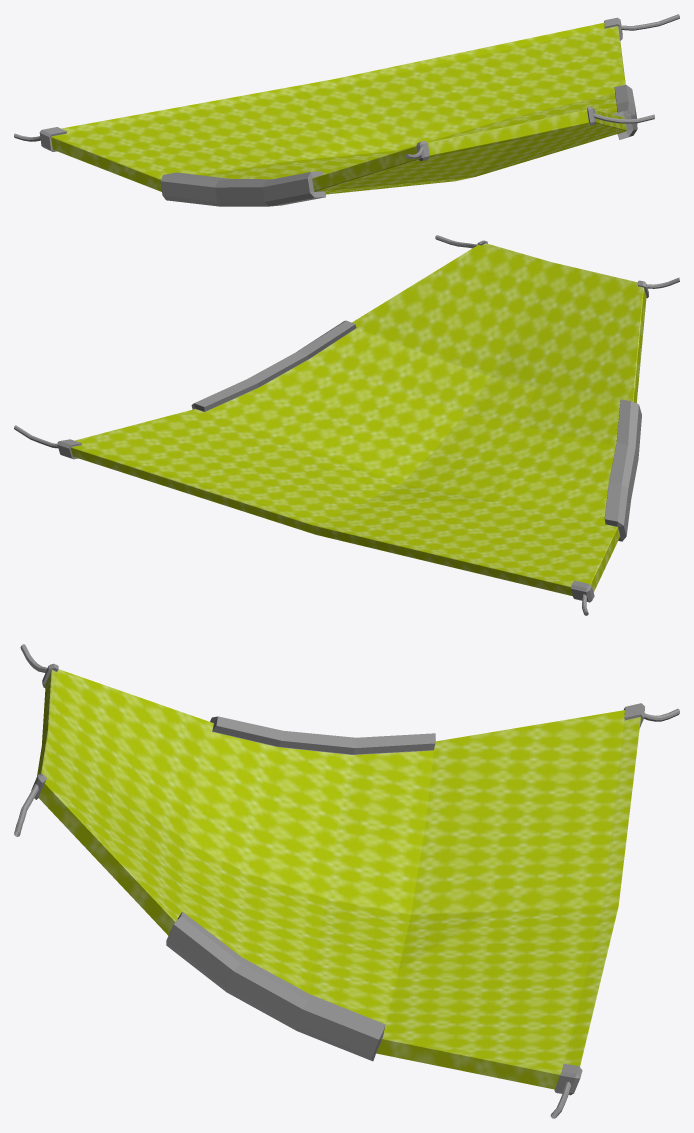
File: SM_Cloth_03.fbx
3 renders of one model, top to bottom at view 1: azimuth 30°, elevation 25°; view 2: azimuth 150°, elevation 25°; view 3: azimuth 270°, elevation 25°, orthographic. The views are drawn at different scales.
Visible parts, largest first — view 1: SM_Cloth_03; view 2: SM_Cloth_03; view 3: SM_Cloth_03.
Part boxes in pixels (box(x1,y1,x2,y2)): SM_Cloth_03: box(14, 14, 679, 206); SM_Cloth_03: box(14, 235, 679, 615); SM_Cloth_03: box(14, 644, 679, 1118).
Bounding box in the file's own units: 170 × 117 × 38.3.
1 material, 1 textured.
